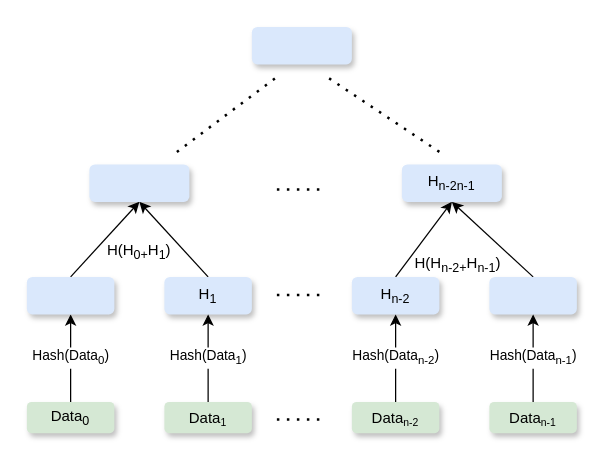
The diagram is 605 pixels wide and 463 high, and some of its shapes have lost their labels. The shapes that lost their labels are listed below. From the top down, each one's centre as x and y in pixels, then its label:
point (302, 46): H root
point (140, 184): H 01
point (71, 296): H 0
point (534, 296): H n-1
